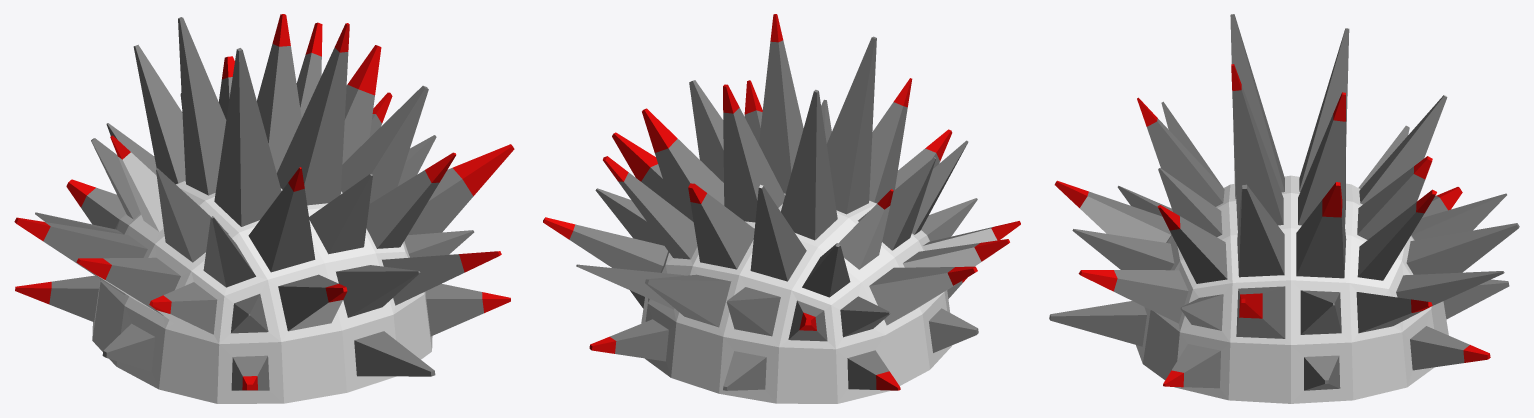
The model's file is Spike.fbx.
3 views of the same model, side by side, from view 1: azimuth 30°, elevation 25°; view 2: azimuth 150°, elevation 25°; view 3: azimuth 270°, elevation 25° (orthographic). The views are drawn at different scales.
Parts seen in each view (by area): view 1: Cube; view 2: Cube; view 3: Cube.
Boxes of the visible parts, <box> form: Cube: <box>14,14,514,403</box>; Cube: <box>543,14,1020,403</box>; Cube: <box>1049,14,1519,403</box>.
Size of the model in its own units: 165 by 113 by 160.
